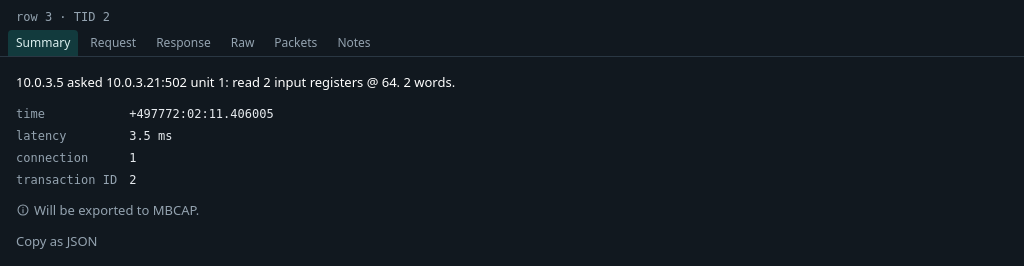
Test: DetailPane follows the selected row › drops the byte selection of the previous row
Click the tab "Raw": (242, 43) [223,30,262,56]
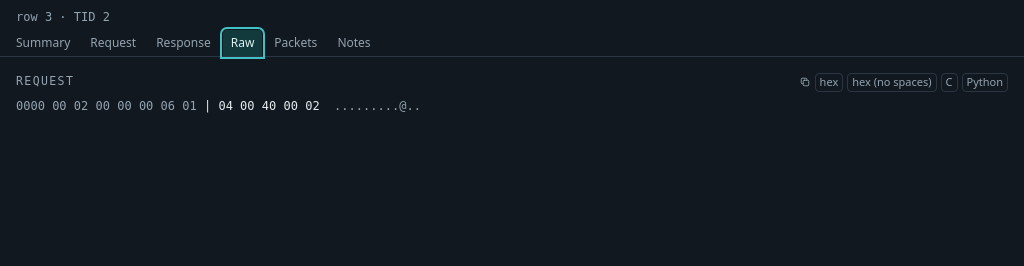
Click the button named "Request byte 7": (226, 106) [218,98,233,112]
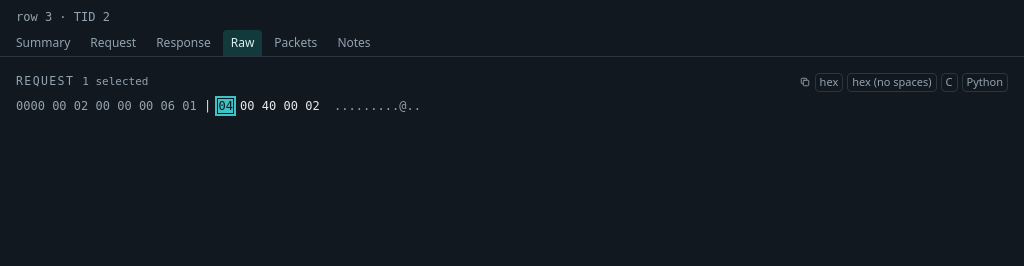
Now the text "1 selected" is shown, box [82,74,148,90]
